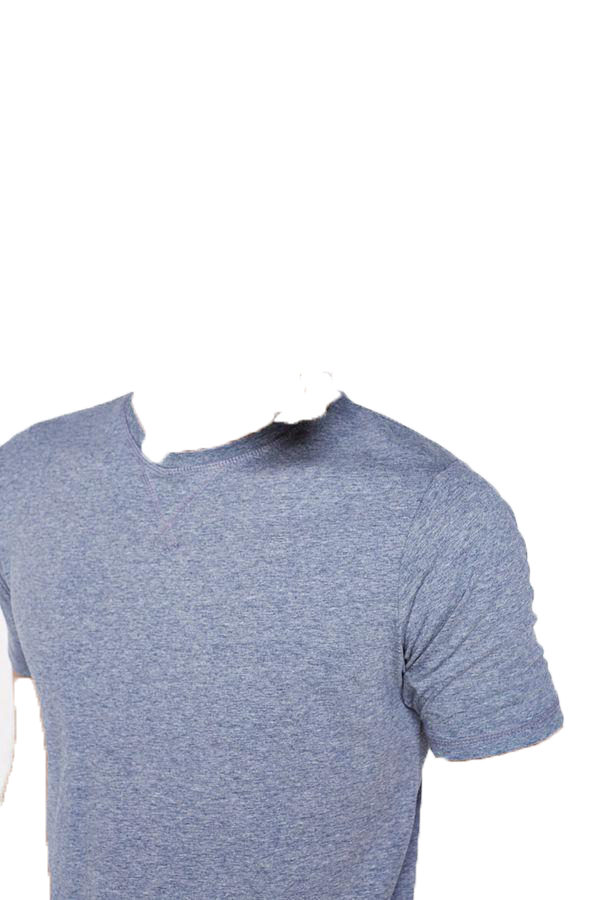teeshirt: (4, 377, 572, 900)
